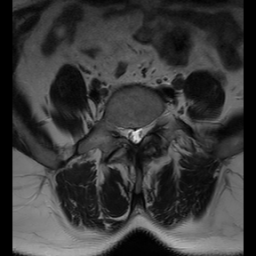CCS_severe_stenosis: (131, 120, 138, 148)
LFS_normal: (144, 113, 152, 136)
LLS_normal: (138, 120, 144, 144)
RFS_normal: (117, 119, 124, 142)
RLS_normal: (124, 121, 131, 144)
